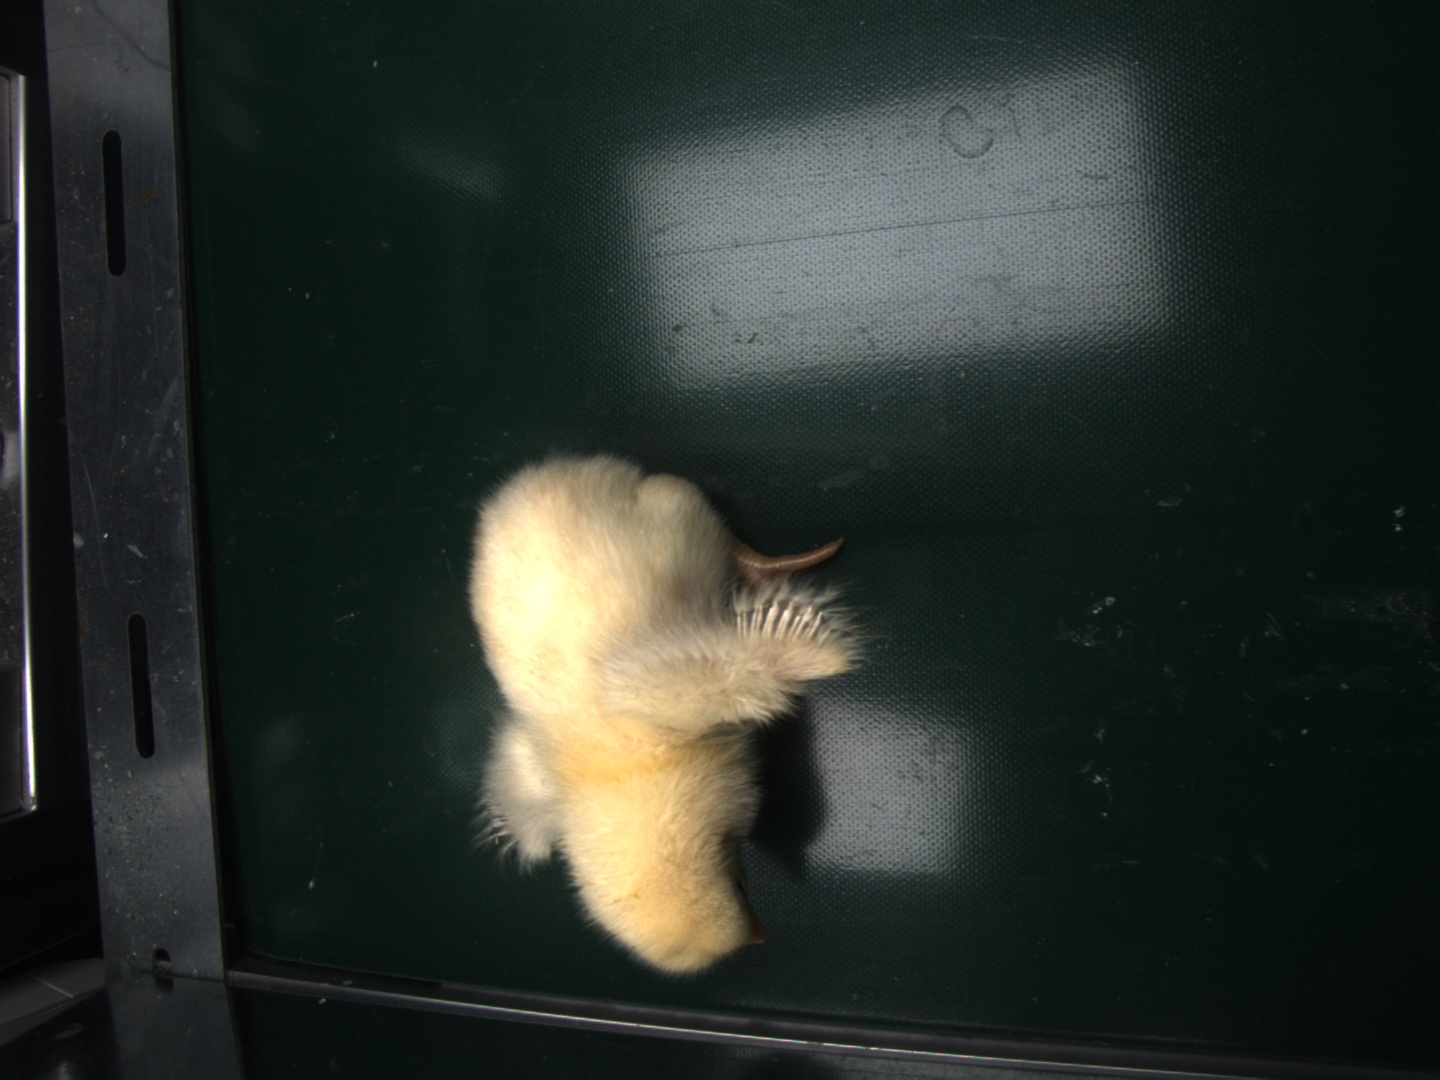male: (731, 597, 830, 644)
